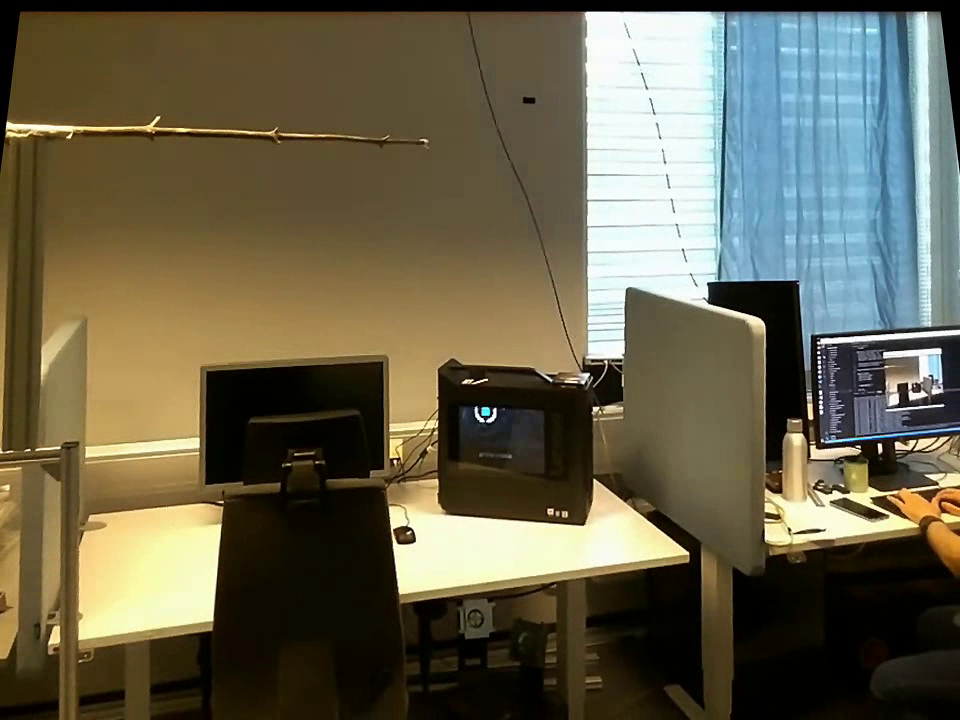aluminum_frame: (1, 139, 55, 450), (57, 441, 79, 719), (0, 437, 63, 467)
branch: (85, 109, 413, 154)
